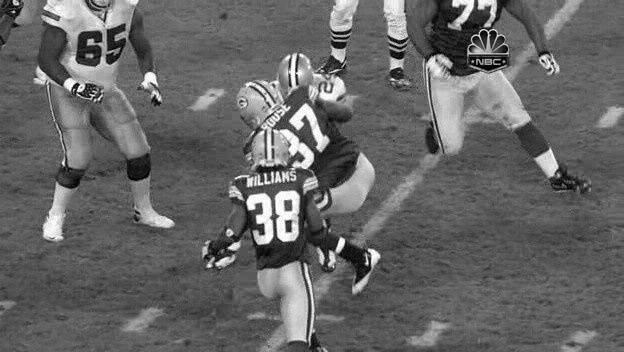person: (278, 53, 311, 95), (277, 53, 310, 95), (279, 53, 312, 95), (278, 52, 311, 94), (278, 54, 311, 96)
target_negative: (187, 201, 522, 349), (409, 256, 571, 309), (532, 107, 608, 200), (571, 102, 624, 191), (240, 336, 510, 346), (92, 317, 177, 329)
